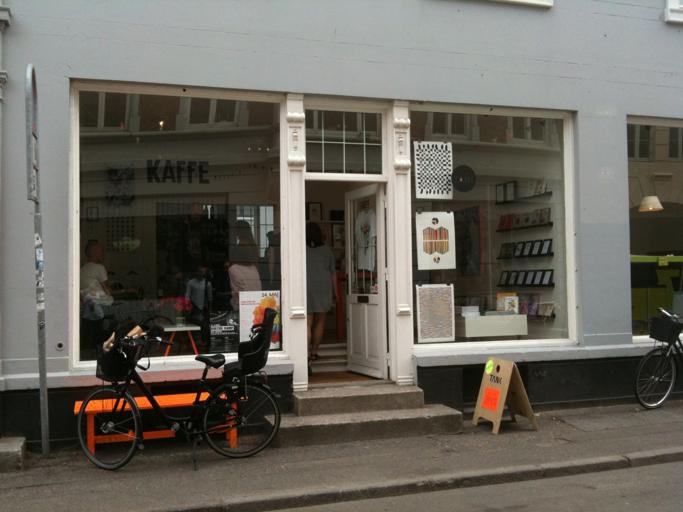non-vehicle: (77, 308, 281, 471), (632, 304, 683, 409)
